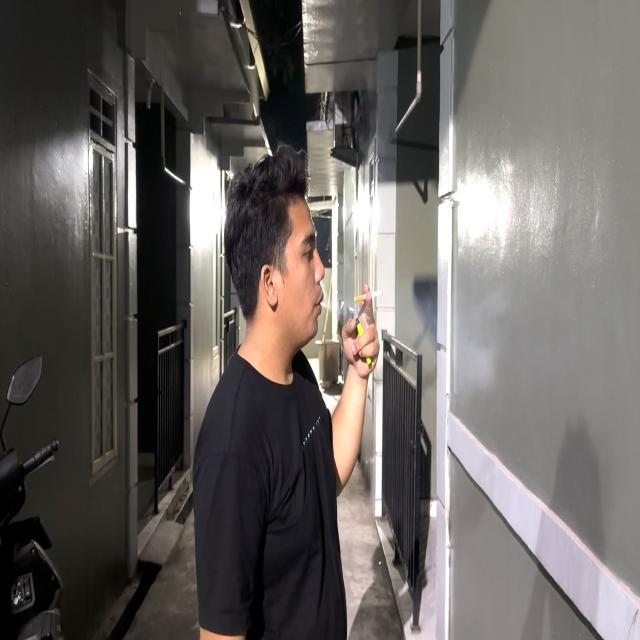cigarette: (354, 289, 384, 302)
smoking: (220, 141, 385, 498)
